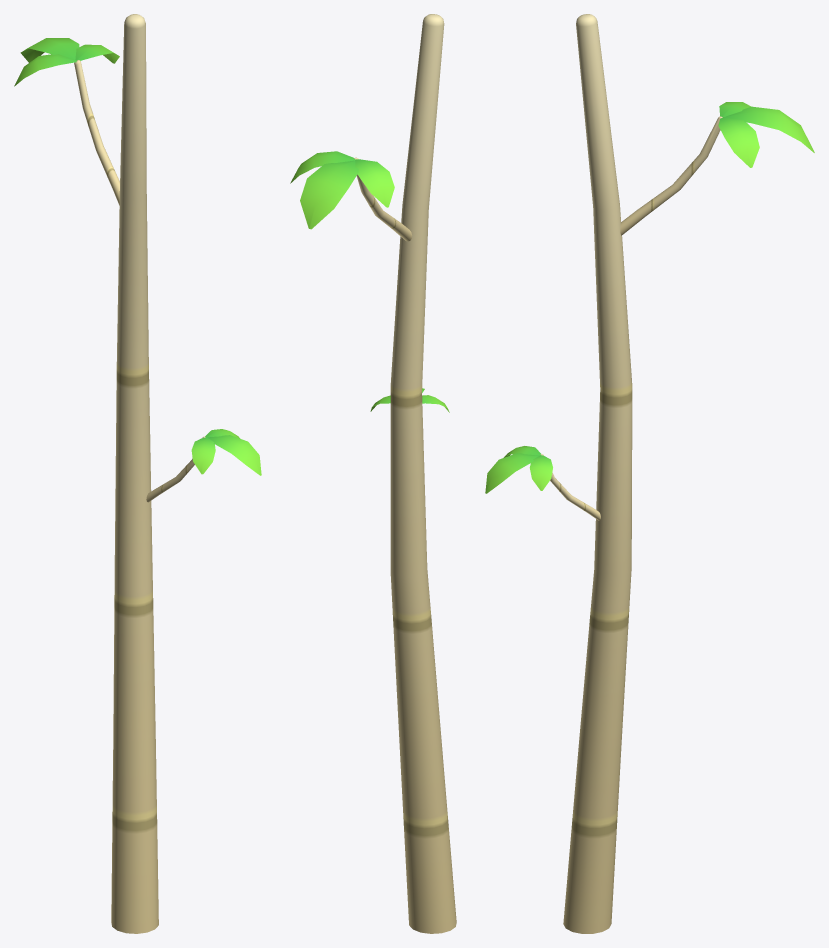
Rendered from Bamboo_A.fbx.
3 renders of one model, left to right at view 1: azimuth 30°, elevation 25°; view 2: azimuth 150°, elevation 25°; view 3: azimuth 270°, elevation 25°, orthographic.
Parts seen in each view (by area): view 1: Bamboo_A; view 2: Bamboo_A; view 3: Bamboo_A.
Part boxes in pixels (x1,y1,x2,y2): Bamboo_A: (14, 14, 261, 933); Bamboo_A: (290, 14, 456, 933); Bamboo_A: (485, 14, 814, 933).
Size of the model in its own units: 45.63 by 321 by 105.
